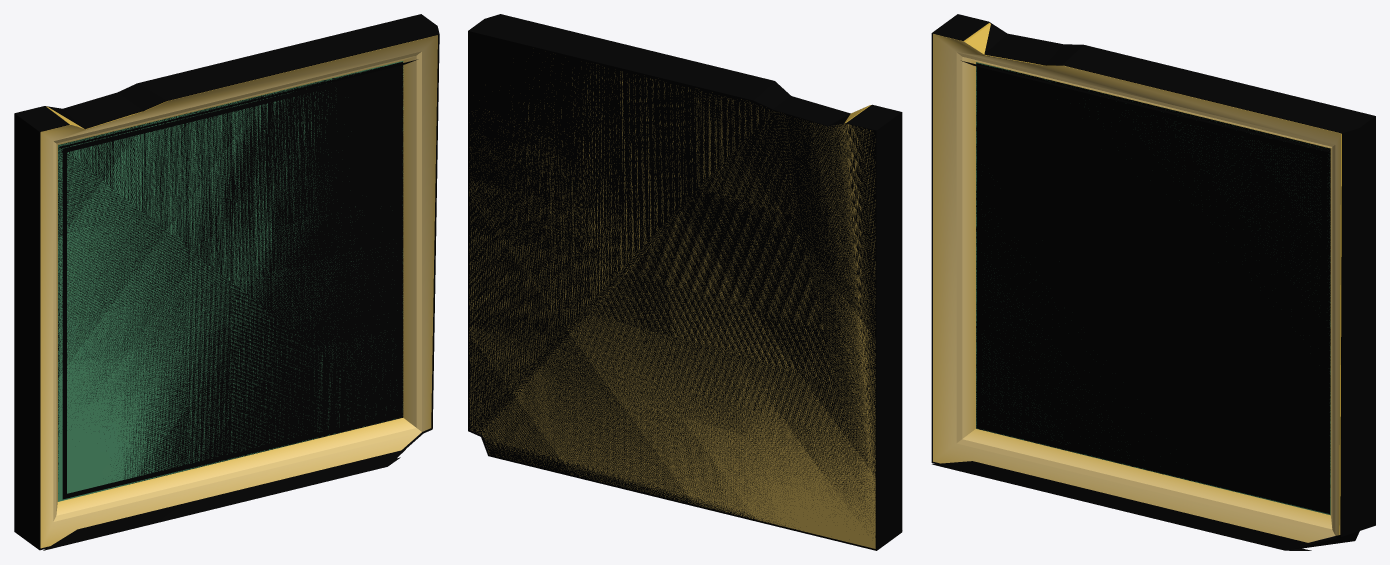
Rendered from Rooms_Paradise_NFT_Frame_Regular_Art.fbx.
The picture shows the model from 3 angles, left to right: view 1: azimuth 30°, elevation 25°; view 2: azimuth 150°, elevation 25°; view 3: azimuth 330°, elevation 25°; orthographic projection. The views are drawn at different scales.
Parts seen in each view (by area): view 1: Rooms_Paradise_NFT_Frame_Regular_Art; view 2: Rooms_Paradise_NFT_Frame_Regular_Art; view 3: Rooms_Paradise_NFT_Frame_Regular_Art.
Boxes of the visible parts, box(x1,y1,x2,y2) form: Rooms_Paradise_NFT_Frame_Regular_Art: box(14, 14, 439, 550); Rooms_Paradise_NFT_Frame_Regular_Art: box(468, 14, 902, 550); Rooms_Paradise_NFT_Frame_Regular_Art: box(931, 14, 1375, 550).
Size of the model in its own units: 197 by 194 by 22.84.
